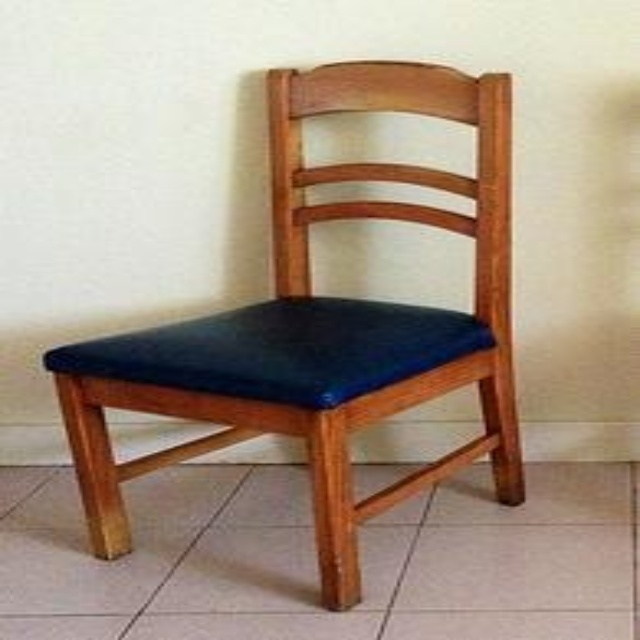obstacle: (43, 62, 522, 608)
